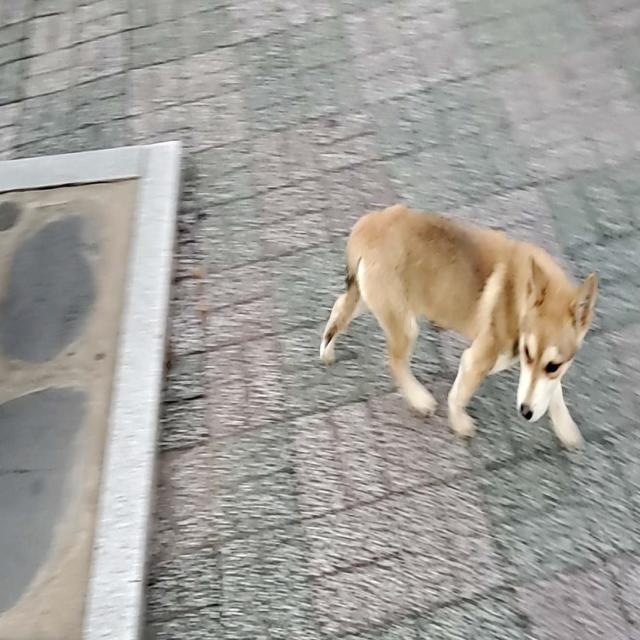Dog: (319, 201, 599, 447)
